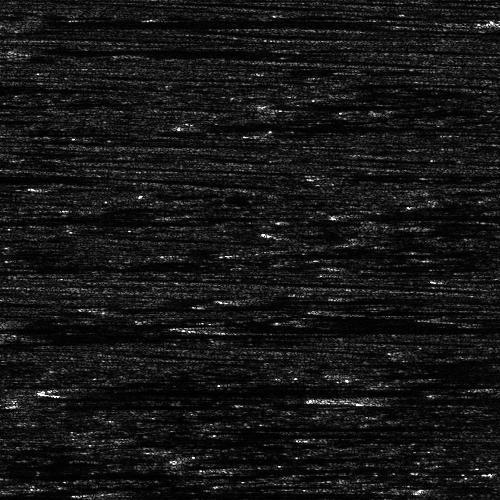object: (207, 244, 300, 261), (0, 43, 78, 58), (304, 208, 377, 223), (294, 394, 409, 403), (39, 383, 112, 396), (353, 483, 458, 492), (175, 464, 268, 473), (175, 323, 258, 332), (147, 453, 252, 460), (206, 293, 259, 306), (60, 487, 133, 496), (309, 308, 372, 313), (0, 466, 20, 477), (483, 21, 500, 26)
shadow: (75, 383, 500, 396), (11, 43, 247, 58), (254, 244, 450, 261), (340, 208, 500, 223), (97, 487, 355, 496), (0, 466, 183, 477), (222, 464, 426, 473), (0, 215, 198, 224), (232, 293, 363, 306), (200, 453, 399, 460), (352, 394, 500, 403), (16, 320, 451, 323), (406, 483, 500, 492), (0, 175, 119, 182), (341, 308, 476, 313), (217, 323, 283, 332), (0, 491, 33, 500), (188, 127, 439, 128), (0, 82, 33, 89), (0, 116, 44, 121), (0, 110, 23, 115)
